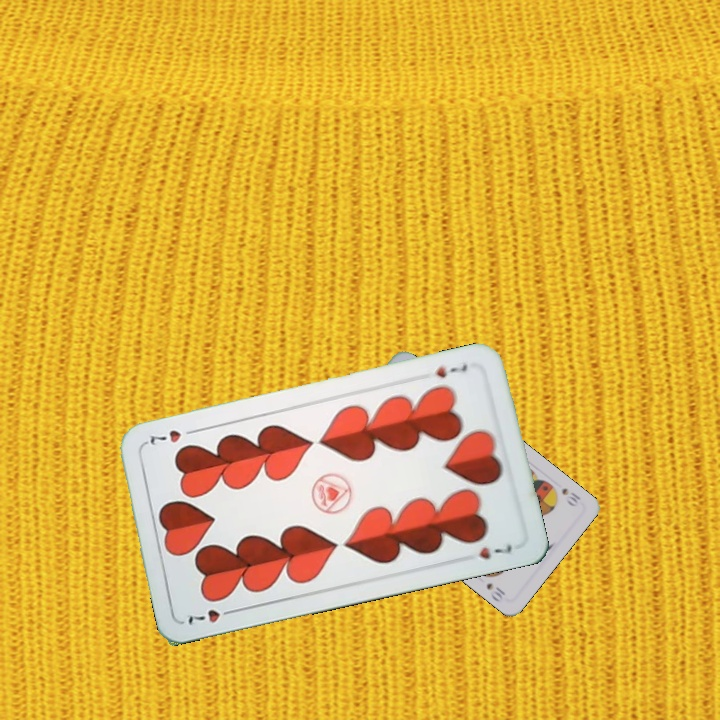H7: (182, 604, 240, 628), (431, 360, 470, 381)
S10: (558, 484, 584, 509)
